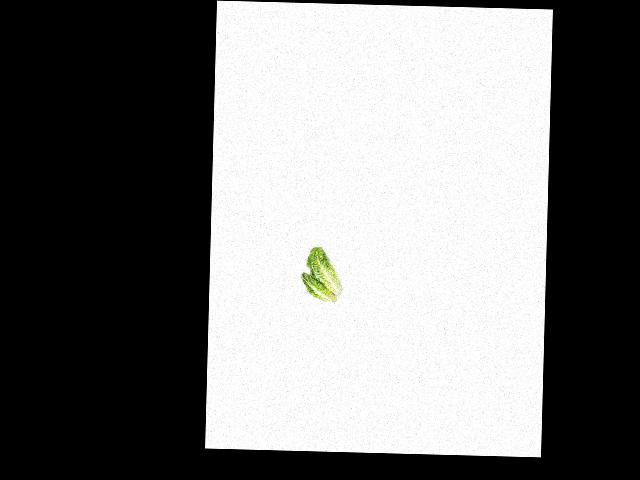lettuce: (304, 246, 345, 292)
